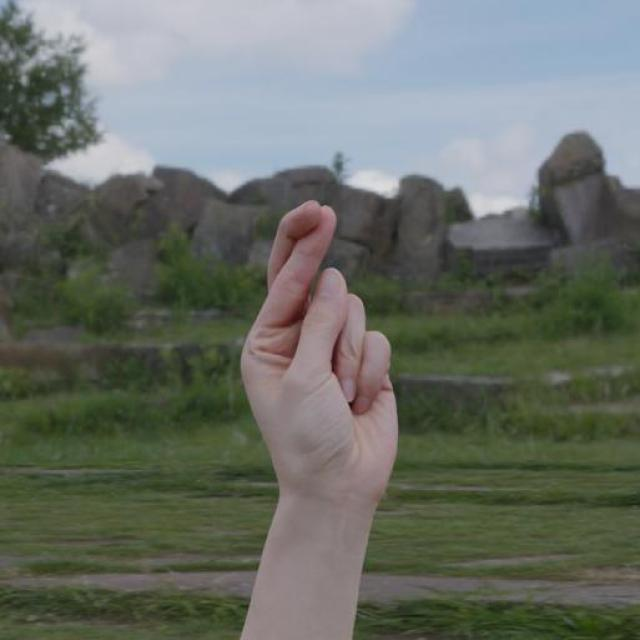R: (234, 194, 405, 517)
